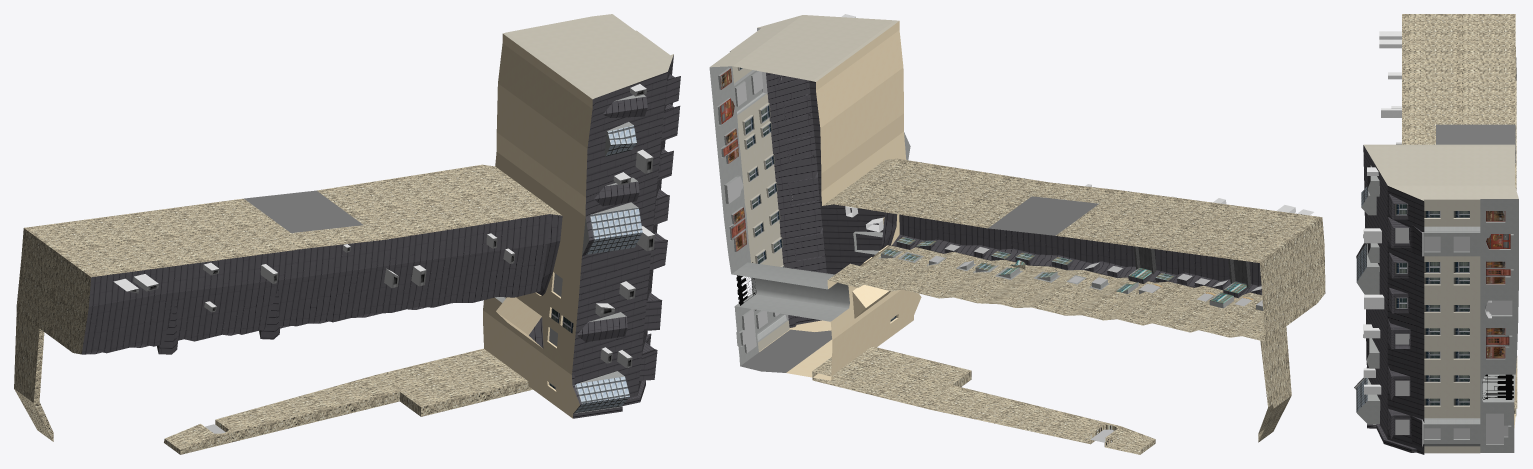
Rendered from Myyrivahe_31-origo.obj.
3 views of the same model, side by side, from view 1: azimuth 30°, elevation 25°; view 2: azimuth 150°, elevation 25°; view 3: azimuth 270°, elevation 25° (orthographic). The views are drawn at different scales.
Visible parts, largest first — view 1: Myyrivahe_31; view 2: Myyrivahe_31; view 3: Myyrivahe_31.
Part boxes in pixels (<box>): Myyrivahe_31: <box>14,14,680,454</box>; Myyrivahe_31: <box>709,14,1325,454</box>; Myyrivahe_31: <box>1354,14,1518,454</box>.
Bounding box in the file's own units: 65.31 × 33.5 × 18.23.
